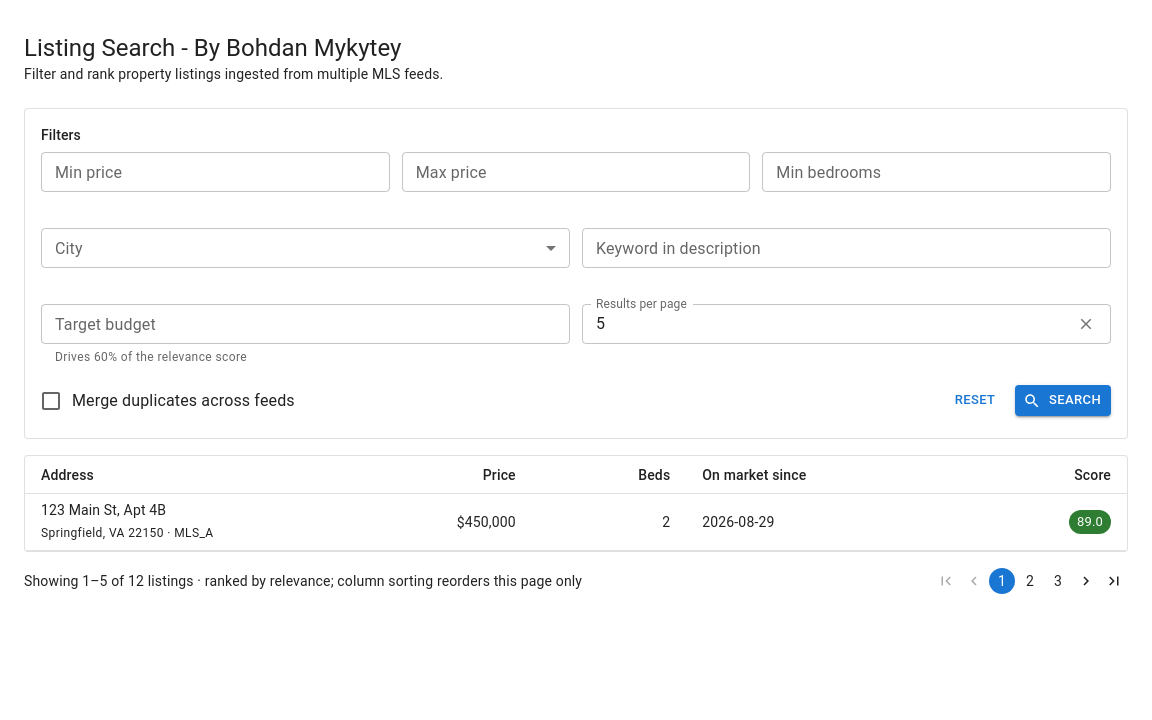
Test case: initial load › populates the city dropdown from the API
The image size is (1152, 720).
Check: the text "123 Main St, Apt 4B" is shown, box 41,502 -> 166,518
What coordinates should you click on to do the following:
click the dropdown named "city"
I would click on:
 (306, 248)
Its box is 41,228 -> 570,268.
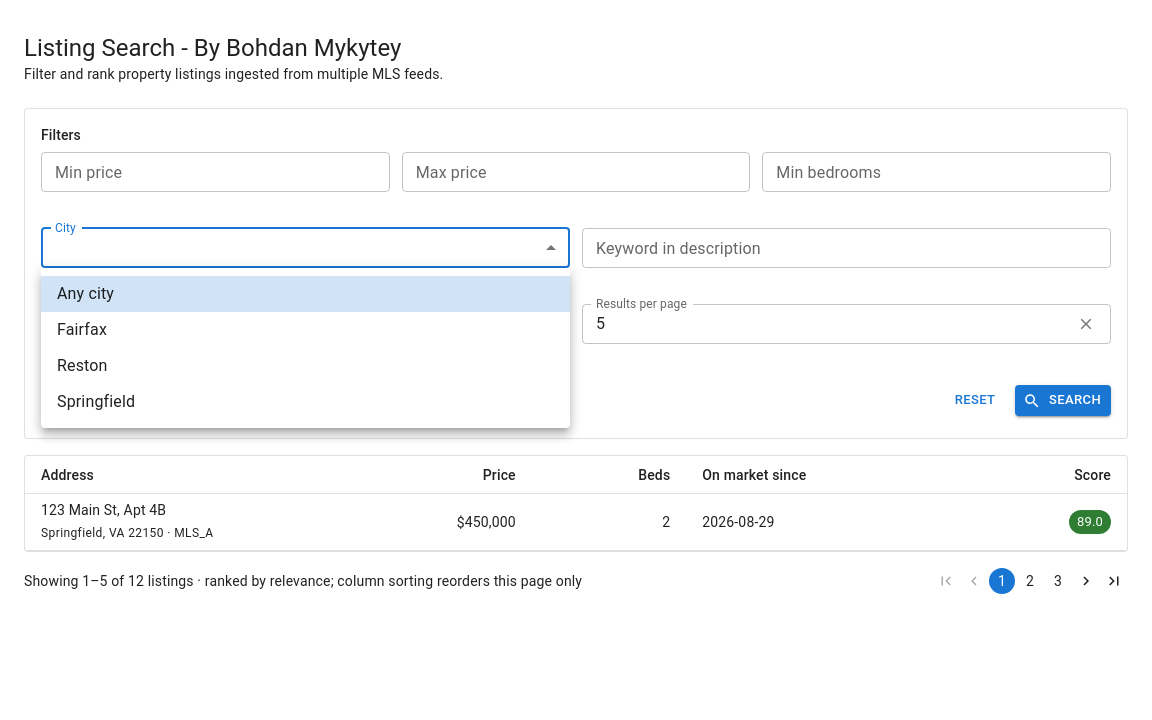
Check: the option "Fairfax" is shown, box 57,320 -> 107,339
Check: the option "Reston" is shown, box 57,356 -> 108,375
Check: the option "Springfield" is shown, box 57,392 -> 135,411
